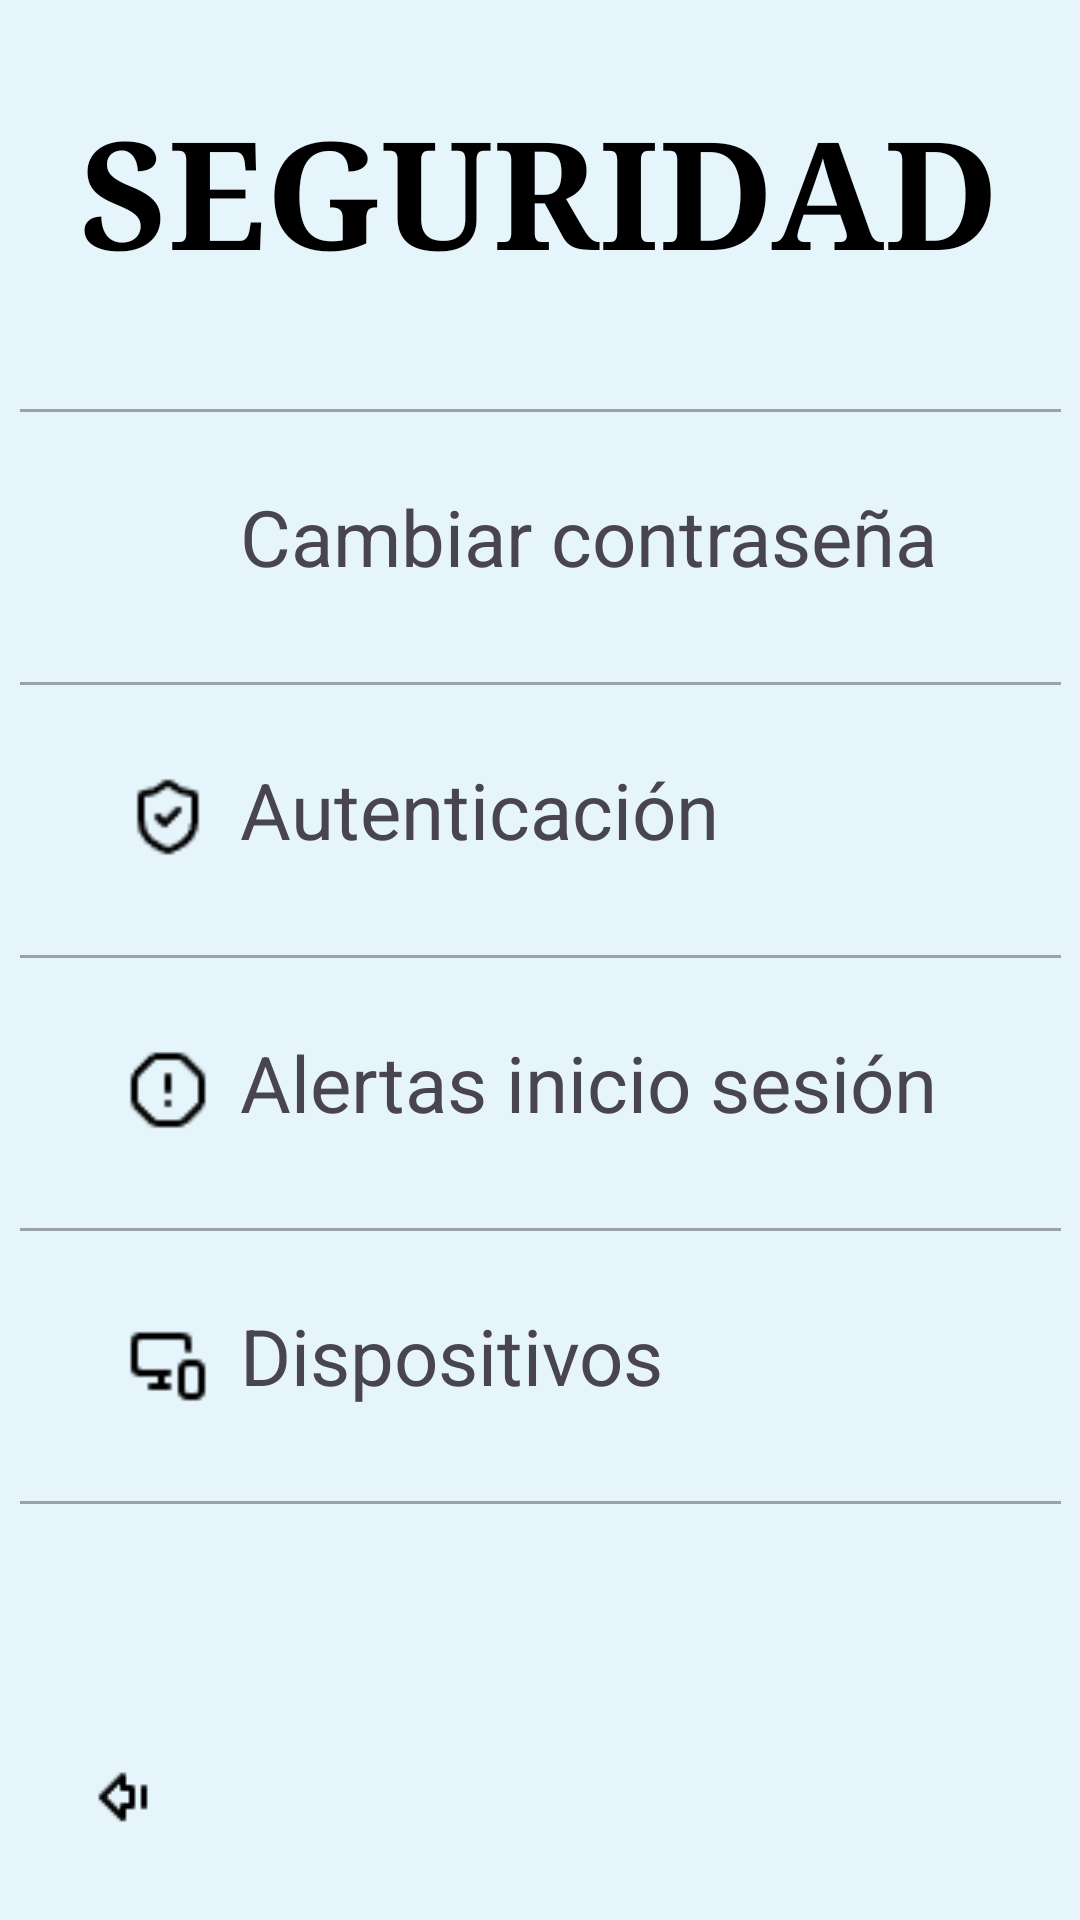

Named icons in this screenshot (1080 × 1920) and their centers, (x,y):
back: (123,1797)
